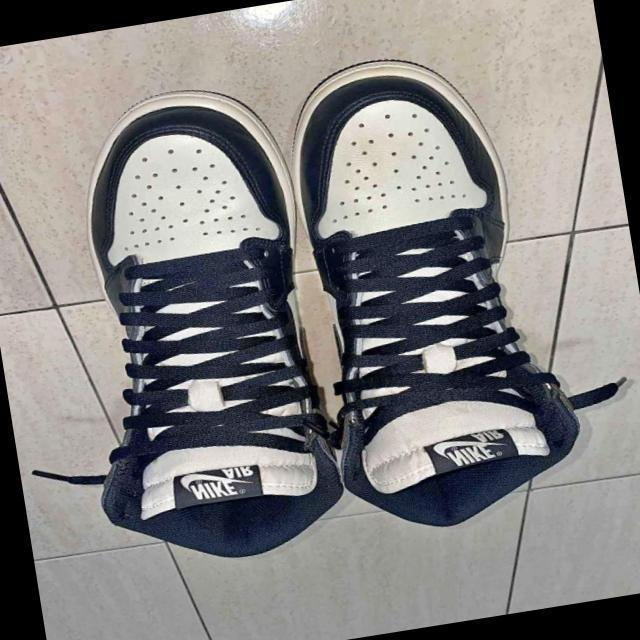nike original jordan 1: (38, 74, 358, 586), (270, 37, 594, 540)
